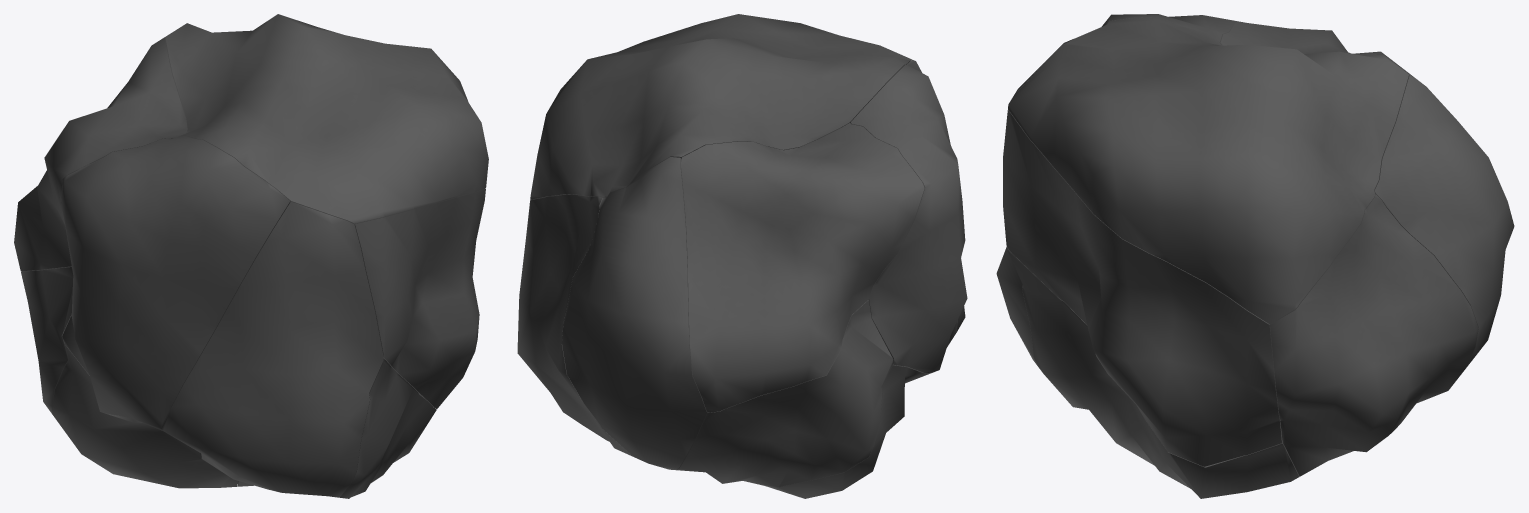
Rendered from FracturedAsteroid2.glb.
3 views of the same model, side by side, from view 1: azimuth 30°, elevation 25°; view 2: azimuth 150°, elevation 25°; view 3: azimuth 270°, elevation 25° (orthographic). The views are drawn at different scales.
Visible parts, largest first — view 1: Asteroid_cell.005, Asteroid_cell.007, Asteroid_cell.001, Asteroid_cell.003, Asteroid_cell.006, Asteroid_cell.002, Asteroid_cell.004, Asteroid_cell.009; view 2: Asteroid_cell.006, Asteroid_cell.005, Asteroid_cell.008, Asteroid_cell.007, Asteroid_cell.009, Asteroid_cell, Asteroid_cell.002; view 3: Asteroid_cell.005, Asteroid_cell.003, Asteroid_cell, Asteroid_cell.008, Asteroid_cell.004, Asteroid_cell.006, Asteroid_cell.001, Asteroid_cell.007.
Boxes of the visible parts, x1,y1,x2,y2 form: Asteroid_cell.005: (165, 14, 488, 223); Asteroid_cell.007: (61, 135, 290, 429); Asteroid_cell.001: (160, 201, 383, 497); Asteroid_cell.003: (354, 189, 485, 409); Asteroid_cell.006: (14, 37, 187, 271); Asteroid_cell.002: (52, 344, 237, 488); Asteroid_cell.004: (238, 358, 436, 498); Asteroid_cell.009: (21, 266, 73, 414); Asteroid_cell.006: (681, 123, 924, 412); Asteroid_cell.005: (530, 14, 911, 199); Asteroid_cell.008: (562, 157, 707, 469); Asteroid_cell.007: (850, 59, 967, 373); Asteroid_cell.009: (677, 300, 893, 486); Asteroid_cell: (517, 194, 678, 470); Asteroid_cell.002: (747, 364, 929, 498); Asteroid_cell.005: (1008, 17, 1408, 324); Asteroid_cell.003: (1003, 110, 1281, 466); Asteroid_cell: (1270, 193, 1478, 476); Asteroid_cell.008: (1374, 71, 1514, 363); Asteroid_cell.004: (1007, 247, 1299, 498); Asteroid_cell.006: (1220, 21, 1410, 74); Asteroid_cell.001: (996, 61, 1045, 368); Asteroid_cell.007: (1051, 14, 1235, 55).
Size of the model in its own units: 1.8 by 1.8 by 1.97.
1 material, 1 textured.
